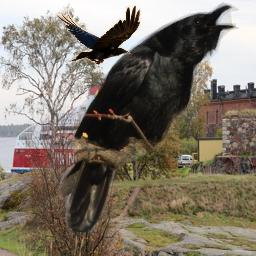Crow: (57, 0, 239, 232), (56, 5, 142, 65)
